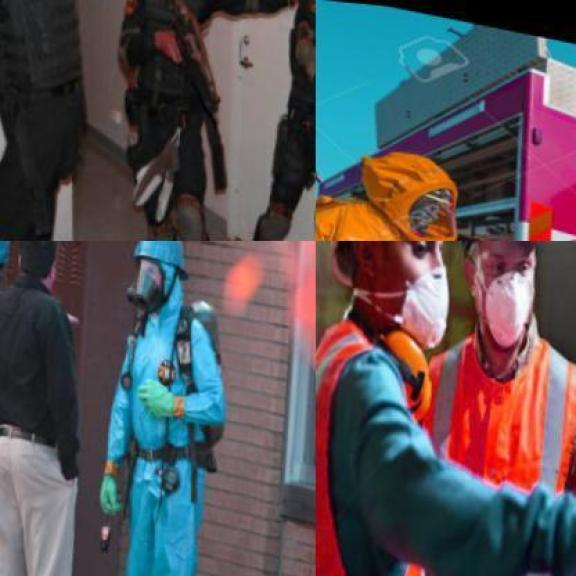safety_vest: (398, 308, 574, 574), (316, 314, 469, 575), (93, 302, 238, 478), (0, 0, 105, 190), (114, 0, 228, 155), (274, 0, 314, 159)
